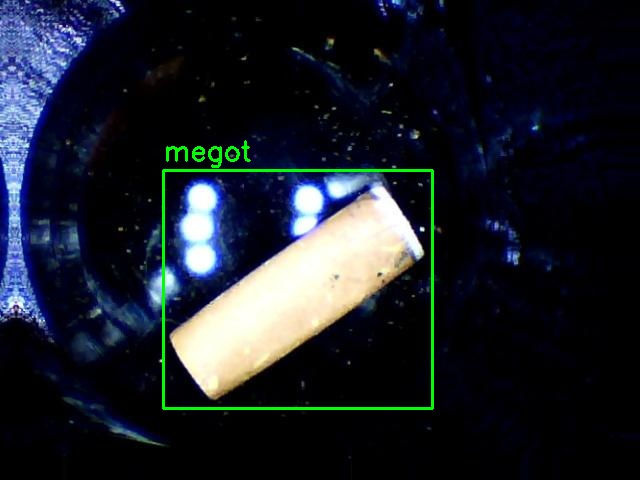megot: (163, 170, 432, 408)
